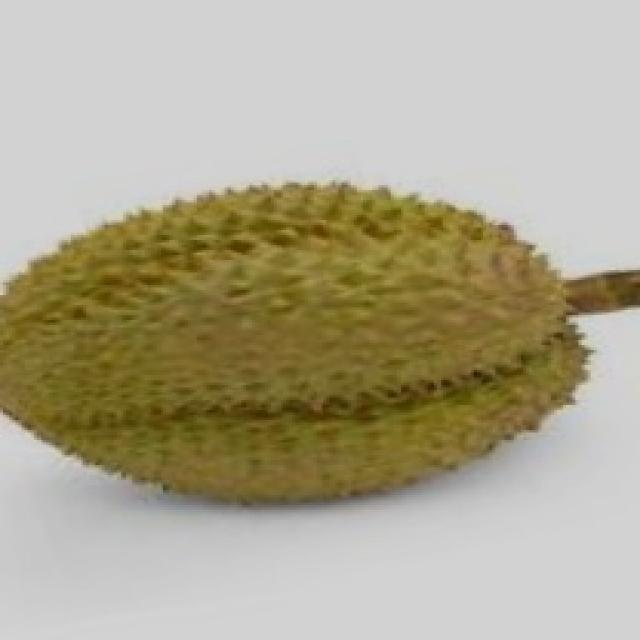fruit: (0, 145, 357, 563), (264, 155, 630, 555)
